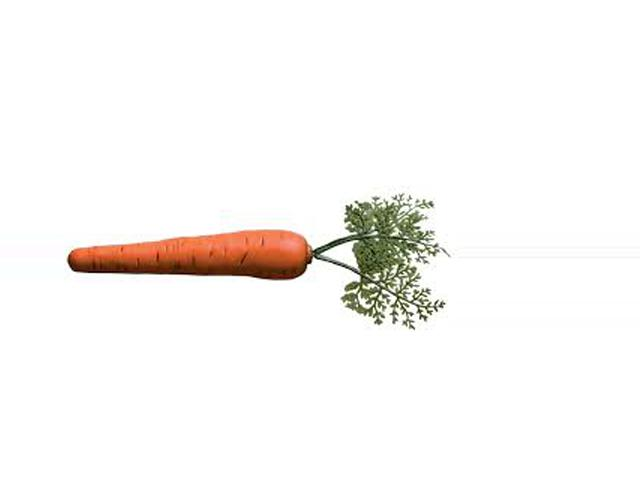carrot: (56, 217, 330, 294)
